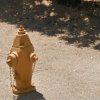Hydrant: (5, 17, 45, 100)
